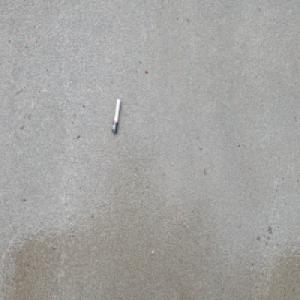Battery: (111, 97, 121, 134)
